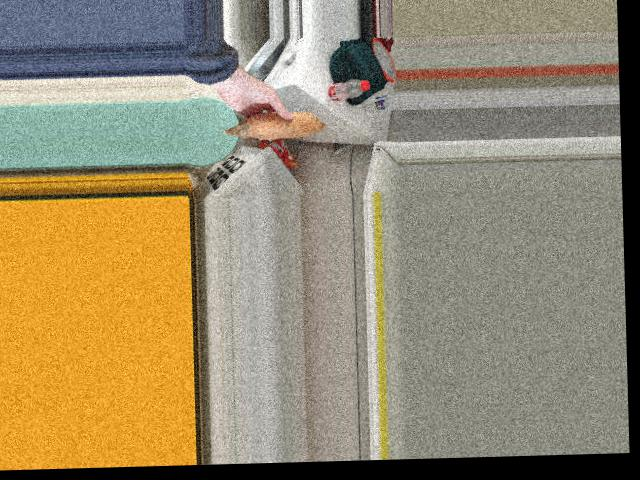sweet_potato: (231, 107, 313, 140)
